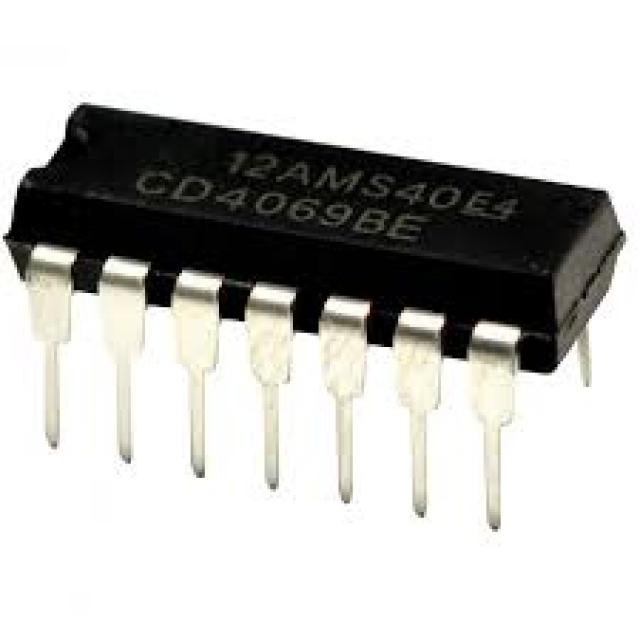IC: (8, 100, 618, 528)
